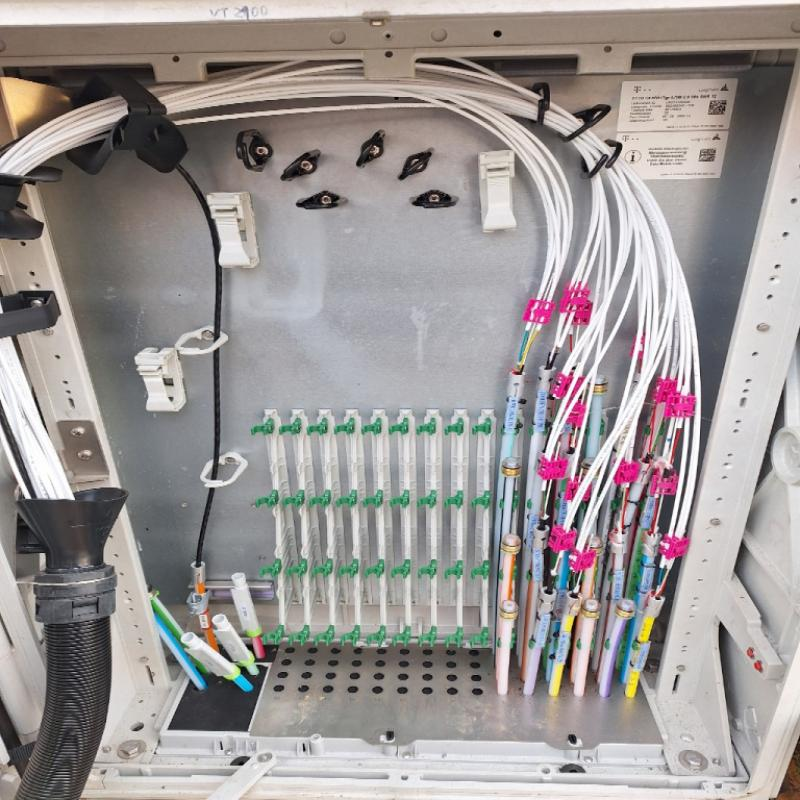NT-Gehause: (2, 3, 799, 791)
